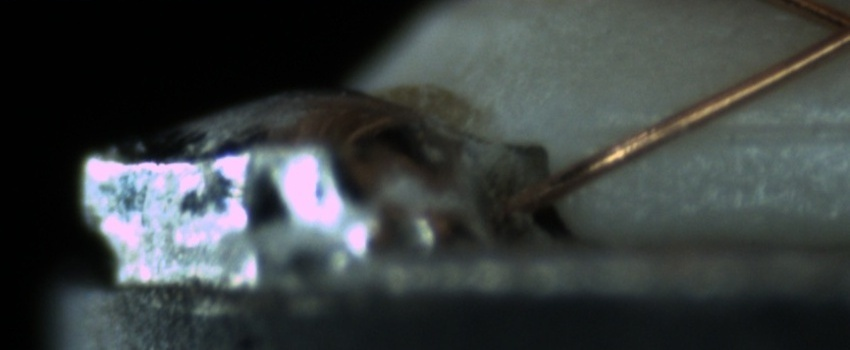CL: (803, 1, 850, 62)
DL: (619, 90, 848, 162)
